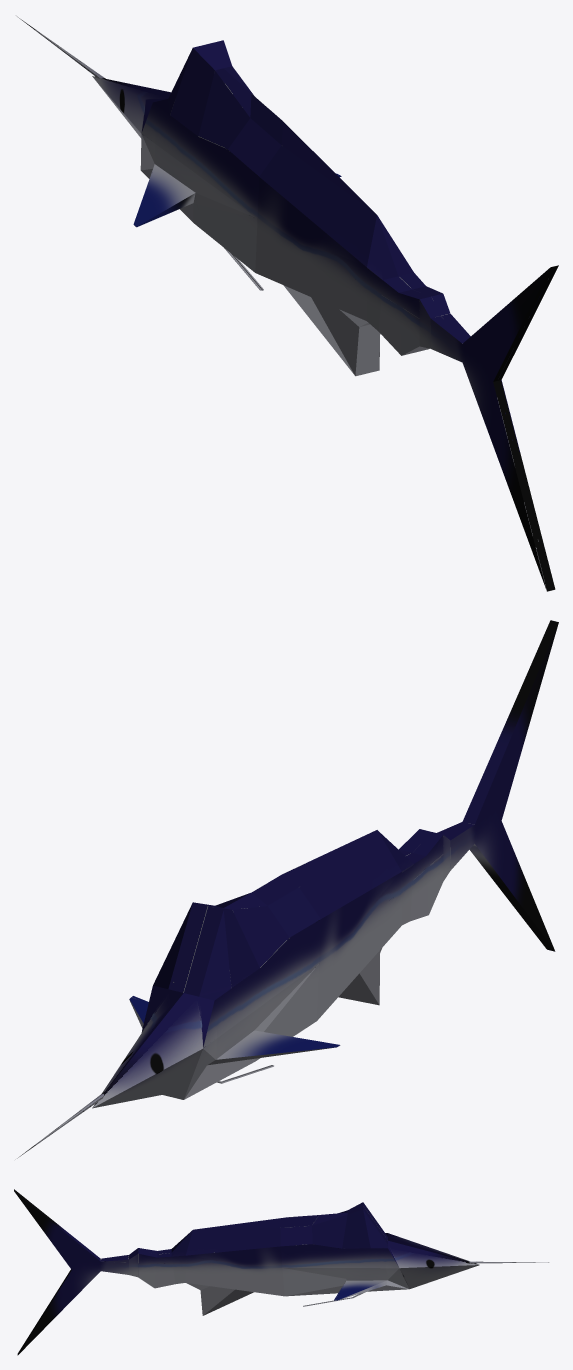
Rendered from fish_spear.obj.
3 renders of one model, top to bottom at view 1: azimuth 30°, elevation 25°; view 2: azimuth 150°, elevation 25°; view 3: azimuth 270°, elevation 25°, orthographic. The views are drawn at different scales.
Visible parts, largest first — view 1: Cube; view 2: Cube; view 3: Cube.
Boxes of the visible parts, x1,y1,x2,y2 form: Cube: (17, 16, 558, 591); Cube: (17, 620, 558, 1158); Cube: (14, 1189, 548, 1355).
Bounding box in the file's own units: 1.04 × 1.58 × 4.75.
1 material, 1 textured.
